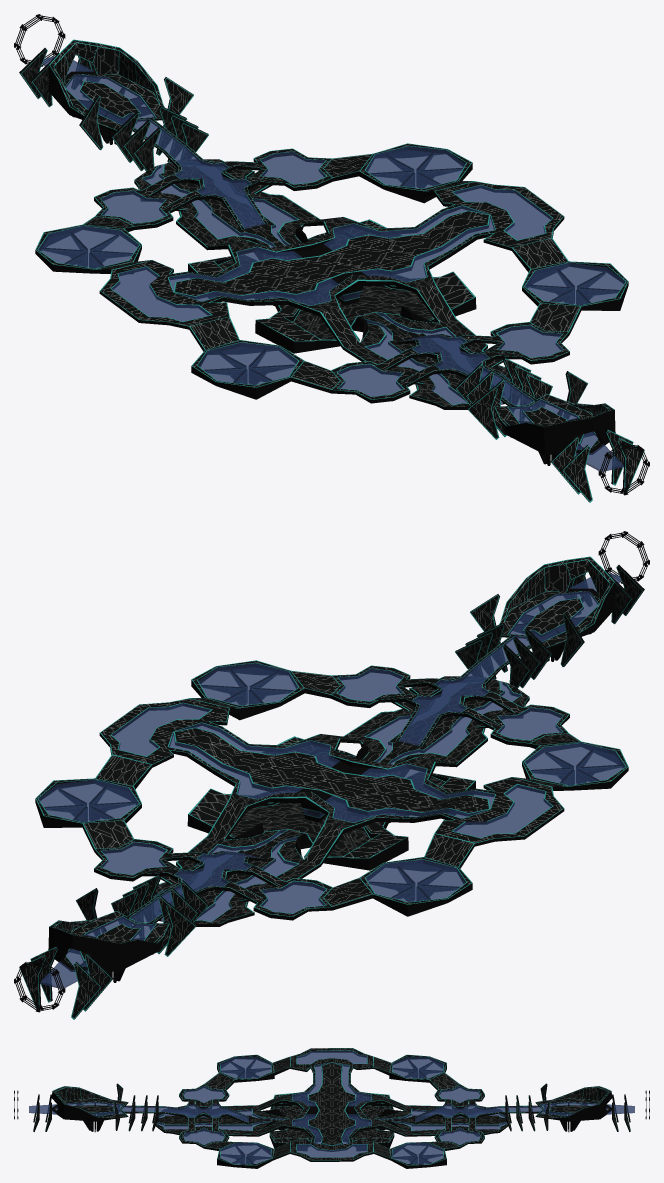
The model's file is Noah_Lv1.fbx.
3 views of the same model, one above another, from view 1: azimuth 30°, elevation 25°; view 2: azimuth 150°, elevation 25°; view 3: azimuth 270°, elevation 25° (orthographic). The views are drawn at different scales.
Parts seen in each view (by area): view 1: polySurface47 (×4), polySurface48 (×4), BasePlatform_Upper_Glass (×2), polySurface74 (×2), polySurface98, polySurface13 (×2), polySurface181 (×2), polySurface216 (×2), polySurface209, polySurface120, polySurface215, polySurface34 (×2) (+28 smaller); view 2: polySurface47 (×4), polySurface48 (×4), BasePlatform_Upper_Glass (×2), polySurface209, polySurface74 (×2), polySurface13 (×2), polySurface181 (×2), polySurface216 (×2), polySurface120, polySurface98, polySurface215, polySurface34 (×2) (+28 smaller); view 3: polySurface47 (×4), polySurface48 (×4), BasePlatform_Upper_Glass (×2), polySurface216 (×2), polySurface74 (×2), polySurface181 (×2), polySurface13 (×2), polySurface183 (×2), polySurface215, polySurface120, polySurface209, polySurface98 (+28 smaller).
Boxes of the visible parts, bbox=[...] form: polySurface47 (×4): bbox=[38, 146, 625, 384]; polySurface48 (×4): bbox=[35, 143, 628, 399]; BasePlatform_Upper_Glass (×2): bbox=[134, 119, 533, 405]; polySurface74 (×2): bbox=[134, 164, 469, 409]; polySurface98: bbox=[232, 240, 441, 298]; polySurface13 (×2): bbox=[48, 39, 591, 454]; polySurface181 (×2): bbox=[181, 159, 510, 404]; polySurface216 (×2): bbox=[72, 39, 615, 453]; polySurface209: bbox=[223, 233, 431, 288]; polySurface120: bbox=[99, 260, 229, 329]; polySurface215: bbox=[434, 181, 564, 250]; polySurface34 (×2): bbox=[101, 191, 402, 396]; polySurface47 (×4): bbox=[38, 663, 625, 901]; polySurface48 (×4): bbox=[35, 660, 628, 916]; BasePlatform_Upper_Glass (×2): bbox=[130, 636, 529, 922]; polySurface209: bbox=[222, 757, 431, 816]; polySurface74 (×2): bbox=[194, 681, 529, 926]; polySurface13 (×2): bbox=[72, 556, 615, 971]; polySurface181 (×2): bbox=[153, 676, 482, 921]; polySurface216 (×2): bbox=[48, 556, 591, 970]; polySurface120: bbox=[434, 777, 564, 846]; polySurface98: bbox=[232, 750, 440, 805]; polySurface215: bbox=[99, 698, 229, 767]; polySurface34 (×2): bbox=[261, 708, 562, 913]; polySurface47 (×4): bbox=[220, 1056, 443, 1164]; polySurface48 (×4): bbox=[217, 1054, 446, 1168]; BasePlatform_Upper_Glass (×2): bbox=[122, 1104, 541, 1122]; polySurface216 (×2): bbox=[51, 1091, 612, 1121]; polySurface74 (×2): bbox=[158, 1105, 505, 1119]; polySurface181 (×2): bbox=[156, 1121, 507, 1136]; polySurface13 (×2): bbox=[52, 1086, 611, 1108]; polySurface183 (×2): bbox=[157, 1120, 506, 1126]; polySurface215: bbox=[290, 1138, 373, 1161]; polySurface120: bbox=[290, 1048, 373, 1071]; polySurface209: bbox=[332, 1084, 355, 1137]; polySurface98: bbox=[308, 1084, 331, 1137].
Bounding box in the file's own units: 322 × 53.04 × 773.
